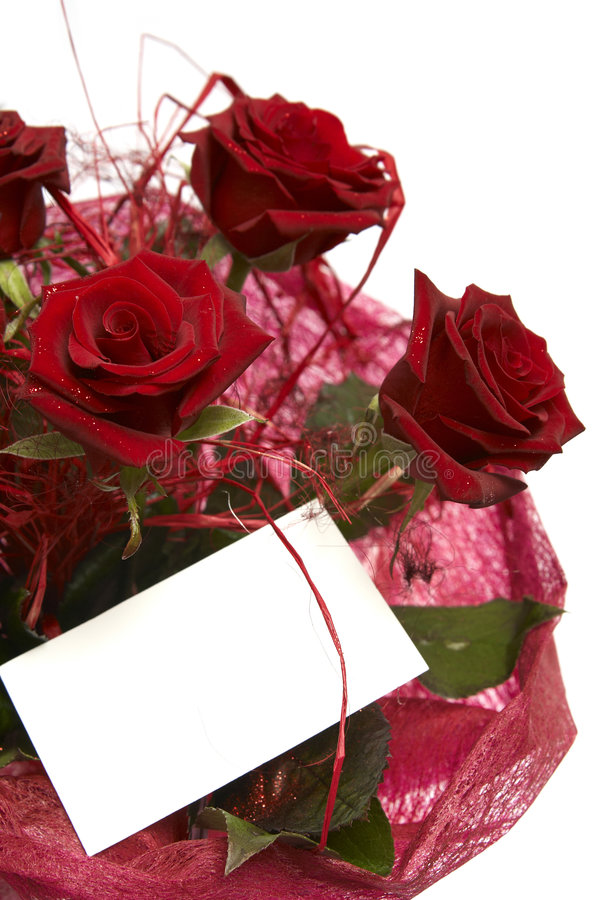RedRose: (27, 220, 267, 499), (165, 57, 433, 254), (384, 240, 574, 507)
